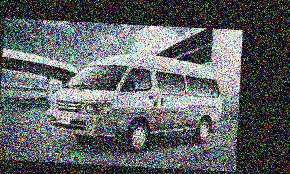van: (44, 50, 226, 155)
